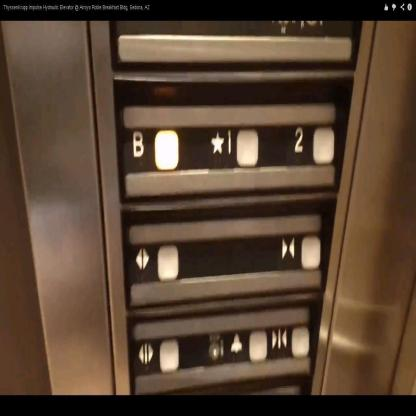2: (283, 120, 336, 170)
B: (129, 124, 181, 176)
alarm: (228, 326, 269, 366)
bt_keyhole: (183, 328, 227, 372)
close: (276, 229, 323, 275), (270, 322, 310, 361)
open: (130, 238, 181, 288), (134, 334, 182, 378)
s1: (205, 122, 260, 172)
